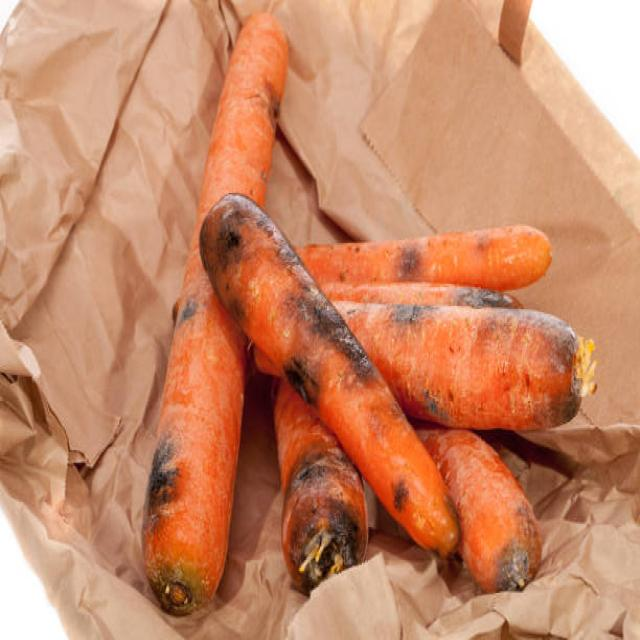Stale_Carrot: (172, 161, 463, 547), (146, 2, 292, 640), (307, 298, 604, 428), (255, 182, 530, 300)
